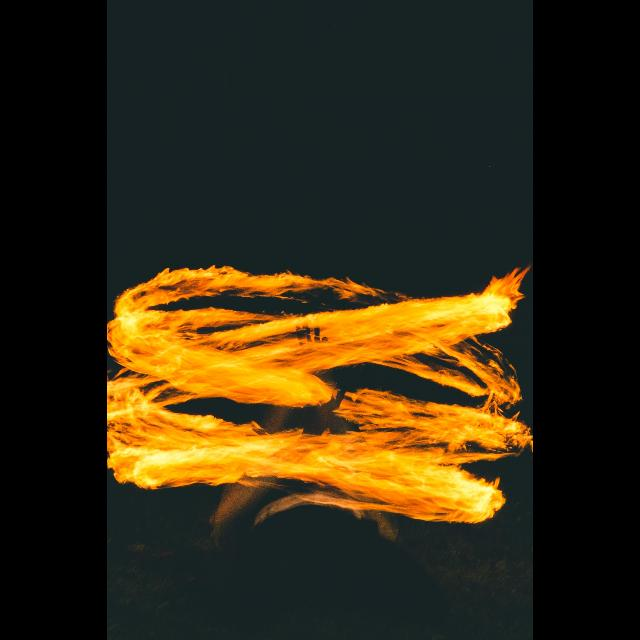fire: (107, 268, 534, 523)
